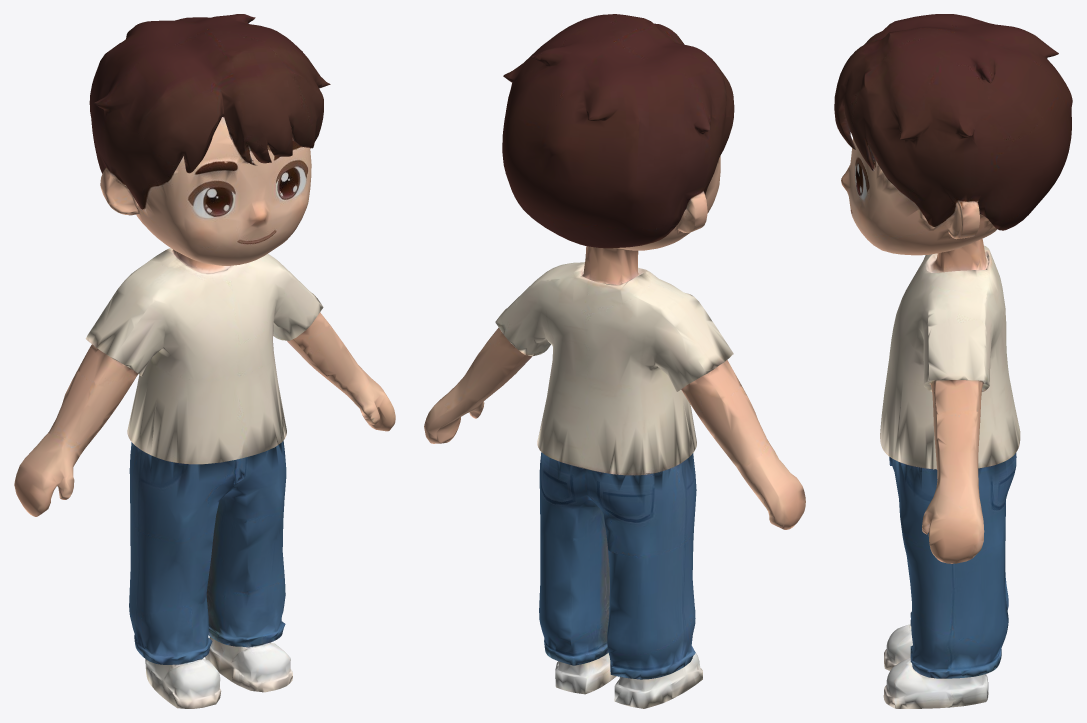
File: char_namja_jachwi_base.glb
3 renders of one model, left to right at view 1: azimuth 30°, elevation 25°; view 2: azimuth 150°, elevation 25°; view 3: azimuth 270°, elevation 25°, orthographic.
Bounding box in the file's own units: 0.9957 × 1.7 × 0.5633.
1 material, 1 textured.
